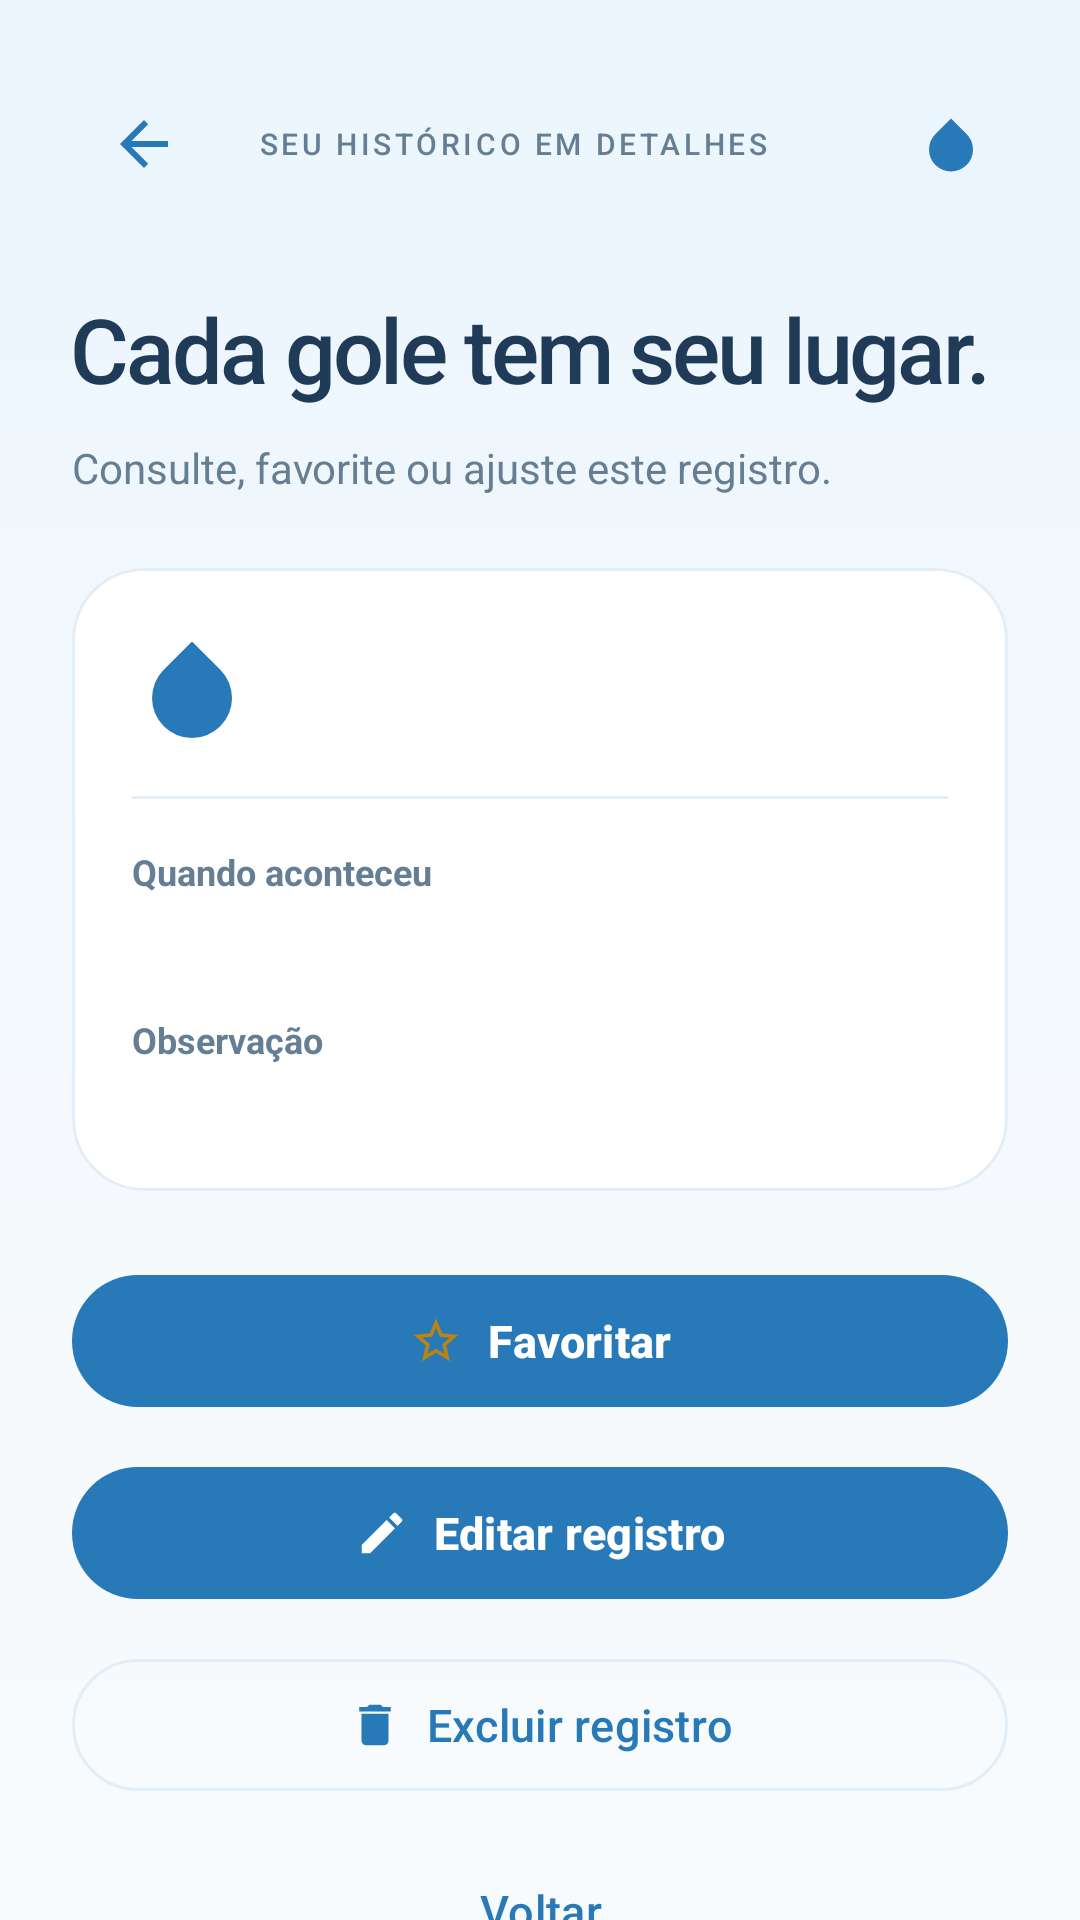

Screen size 1080*1920. Icon name, then its center in pixels as (x=x, y=y):
Bebida: (x=192, y=689)
Voltar: (x=144, y=144)
